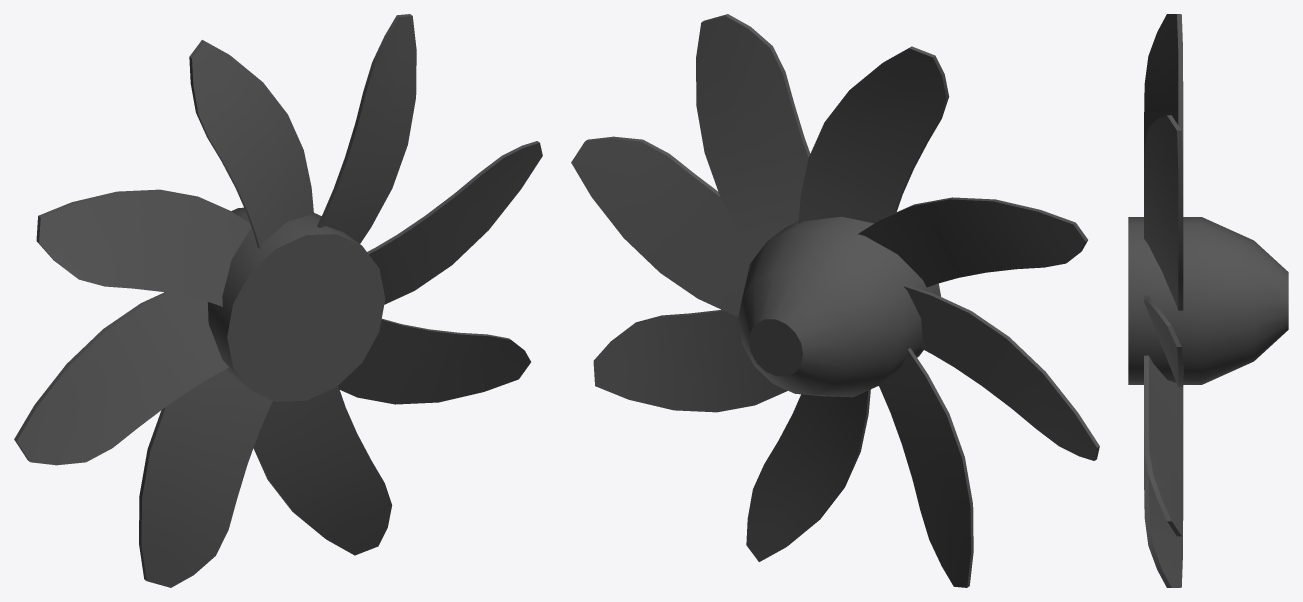
Rendered from truck1_fan1.obj.
3 renders of one model, left to right at view 1: azimuth 30°, elevation 25°; view 2: azimuth 150°, elevation 25°; view 3: azimuth 270°, elevation 25°, orthographic. The views are drawn at different scales.
Visible parts, largest first — view 1: truck1_fan1; view 2: truck1_fan1; view 3: truck1_fan1.
Part boxes in pixels (bbox=[...]): truck1_fan1: bbox=[14, 14, 542, 587]; truck1_fan1: bbox=[571, 14, 1099, 587]; truck1_fan1: bbox=[1128, 14, 1288, 587].
Size of the model in its own units: 0.1921 by 0.1921 by 0.0551.
Materials: 1 (1 with a texture image).
